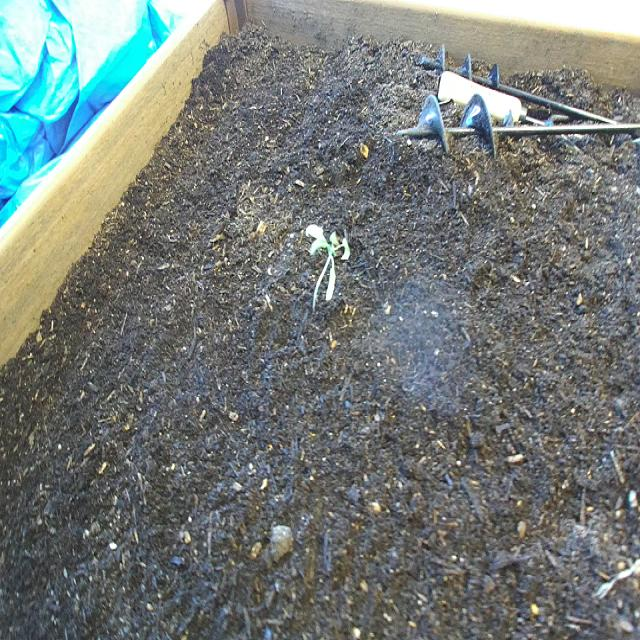Healthy: (301, 220, 354, 312)
